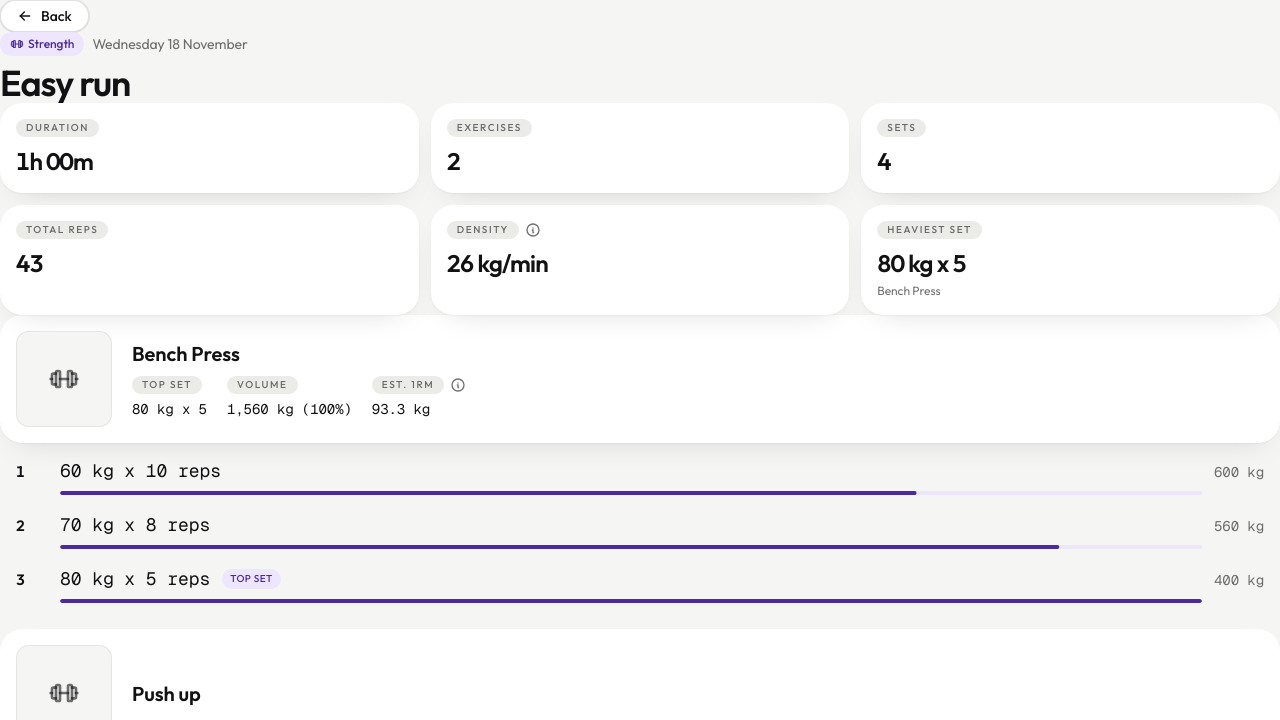
Test case: strength workout detail › explains the estimated 1RM and the density in an info tip that opens on tap
Step 1. Click the button with test id "strength-exercise-1-e1rm-info-trigger" → (458, 385), box [450,377,466,393]
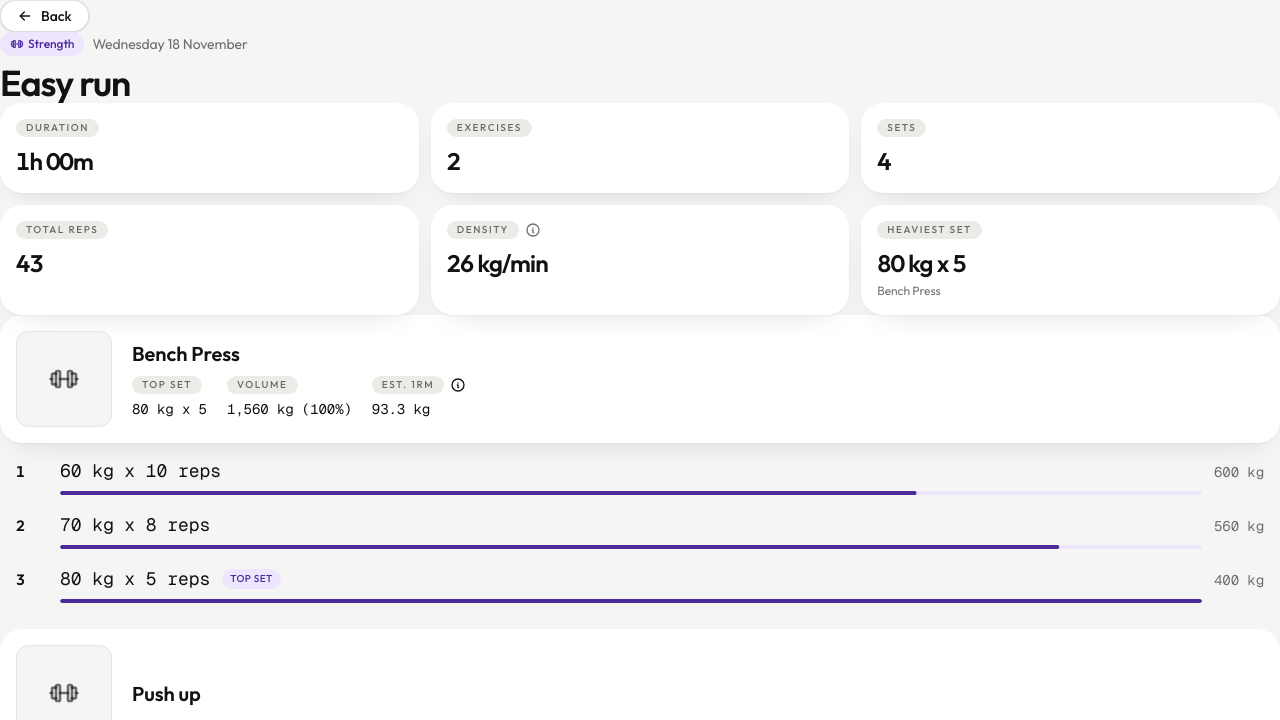
Step 2. Click the button with test id "strength-summary-density-info-trigger" → (533, 230), box [525,222,541,238]
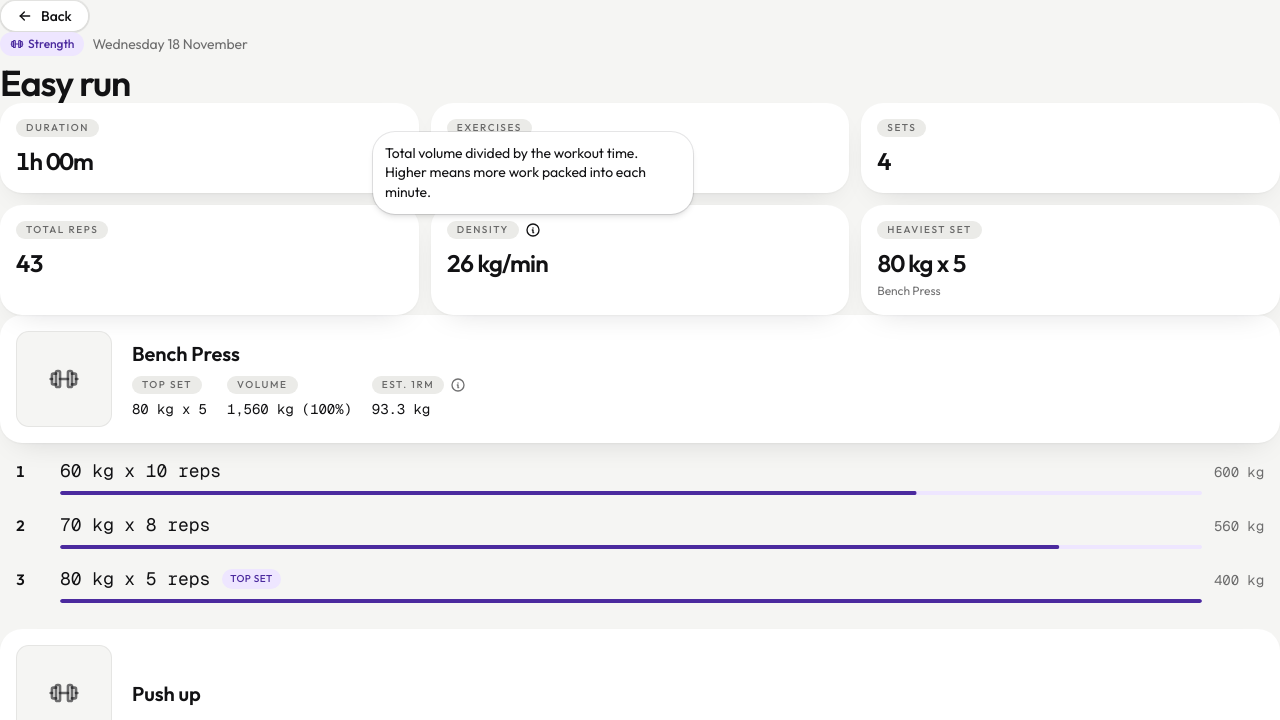
Expected: the dialog with test id "strength-summary-density-info-content" shows "Total volume divided by the workout time", [385,144,646,200]
